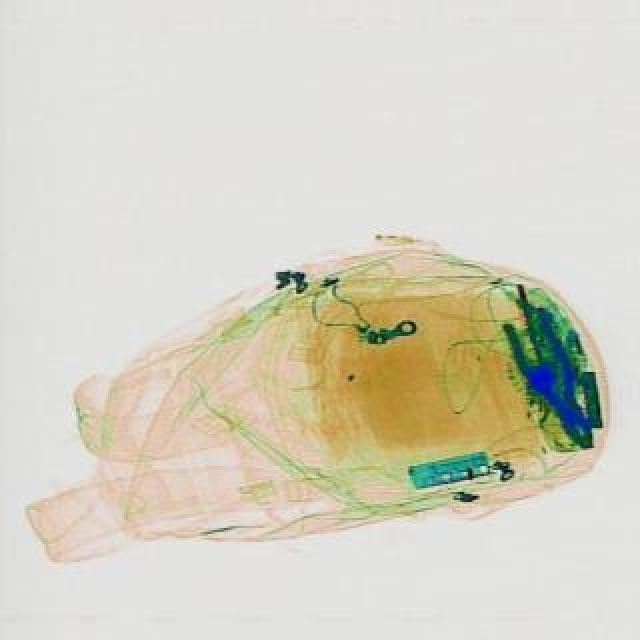wrench: (496, 306, 612, 458)
